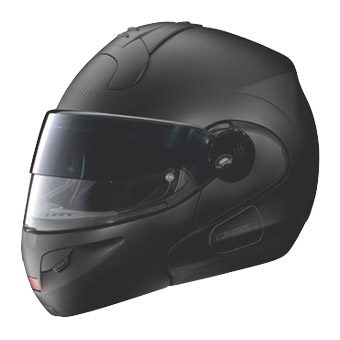helmet: (22, 26, 310, 264)
